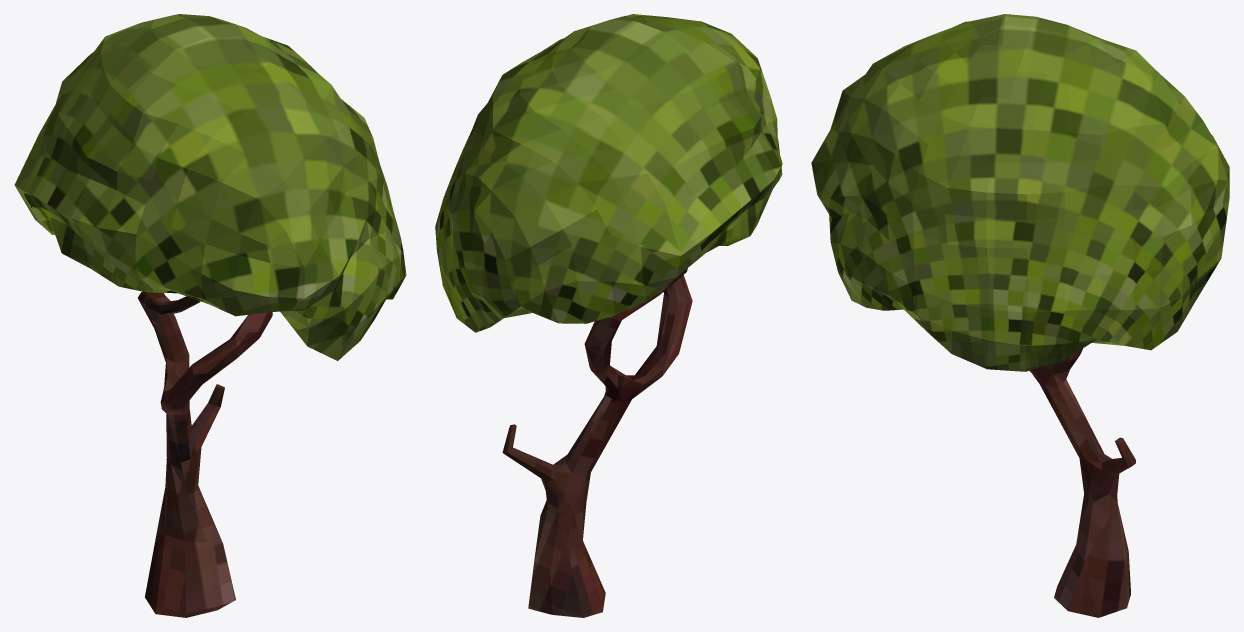
Rendered from Arbol.fbx.
The picture shows the model from 3 angles, left to right: view 1: azimuth 30°, elevation 25°; view 2: azimuth 150°, elevation 25°; view 3: azimuth 270°, elevation 25°; orthographic projection. The views are drawn at different scales.
Visible parts, largest first — view 1: Tree_winding_01; view 2: Tree_winding_01; view 3: Tree_winding_01.
Boxes of the visible parts, bbox=[...] form: Tree_winding_01: bbox=[14, 14, 406, 617]; Tree_winding_01: bbox=[435, 14, 782, 617]; Tree_winding_01: bbox=[811, 14, 1229, 617].
Size of the model in its own units: 422 by 751 by 505.
Materials: 1 (1 with a texture image).
